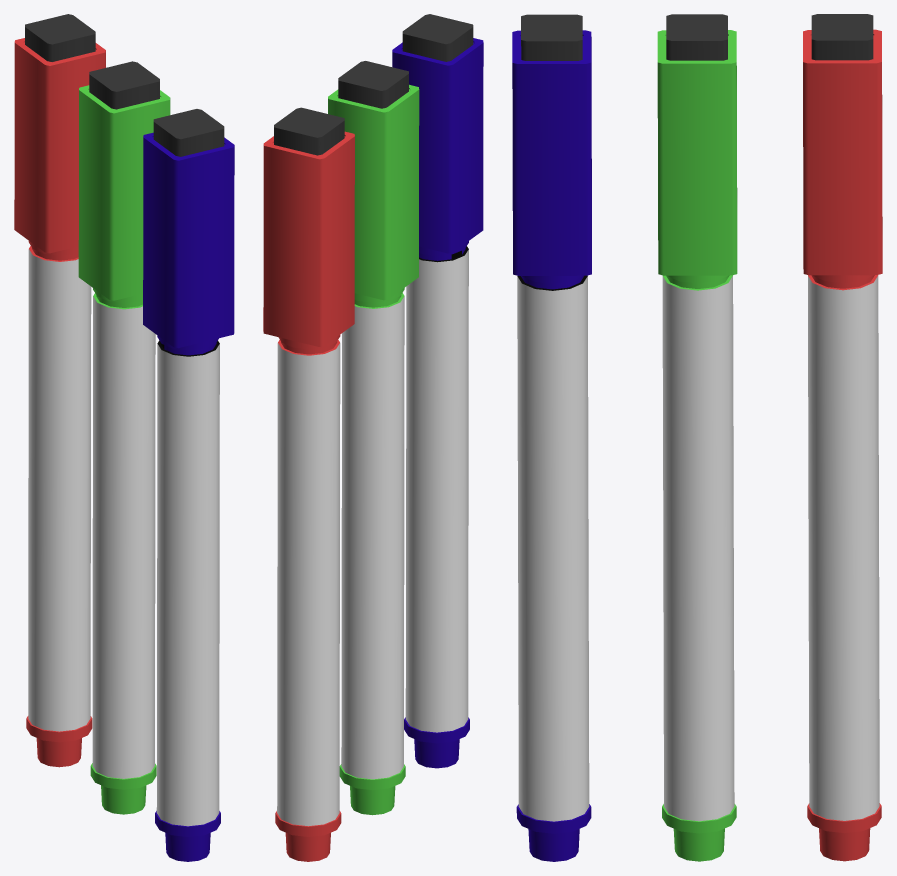
File: Prop_7.fbx
3 views of the same model, side by side, from view 1: azimuth 30°, elevation 25°; view 2: azimuth 150°, elevation 25°; view 3: azimuth 270°, elevation 25° (orthographic). The views are drawn at different scales.
Visible parts, largest first — view 1: Marker; view 2: Marker; view 3: Marker.
Boxes of the visible parts, bbox=[...] form: Marker: bbox=[14, 14, 234, 861]; Marker: bbox=[263, 14, 483, 861]; Marker: bbox=[512, 14, 882, 861].
Bounding box in the file's own units: 1.93 × 22.1 × 8.99.
